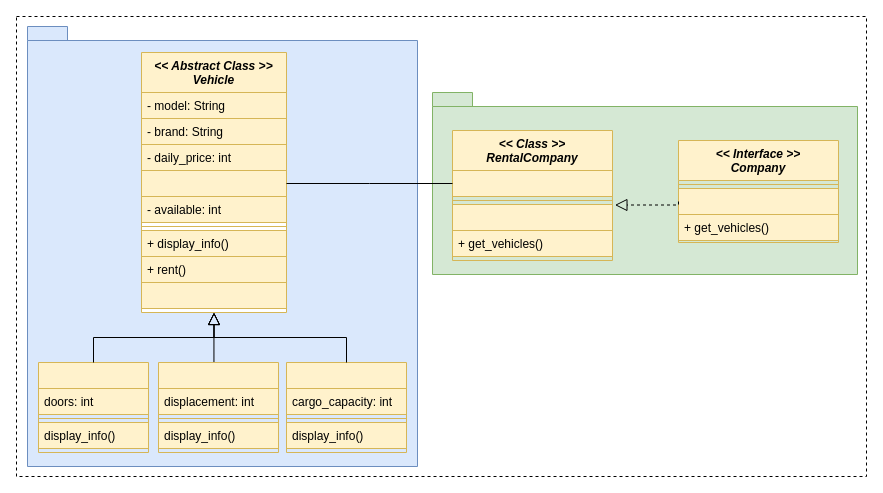
The diagram is 883 pixels wide and 493 high, and some of its shapes have lost their labels. The box of each missing label's shape, as (x1, y1, x2, y2) in pixels:
+ return_vehicle(): (140, 282, 286, 308)
+ set_vehicles (vehicles): (452, 204, 612, 230)
+ set_vehicles(vehicles): (678, 188, 838, 214)
- vehicles: List [vehicles]: (452, 170, 612, 196)
- year: int: (140, 170, 286, 196)
Car: (38, 362, 148, 452)
Motorcycle: (158, 362, 278, 452)
Truck: (286, 362, 406, 452)
